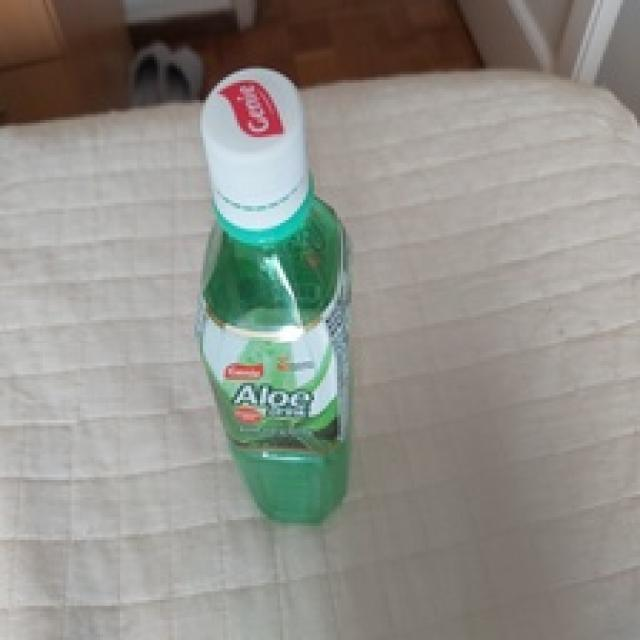Plastic: (195, 63, 348, 522)
